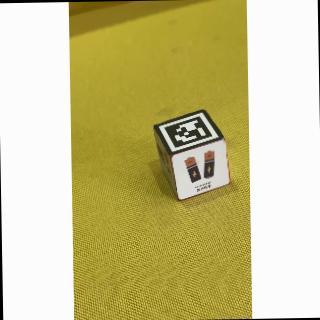Used_Battery: (172, 133, 229, 202)
